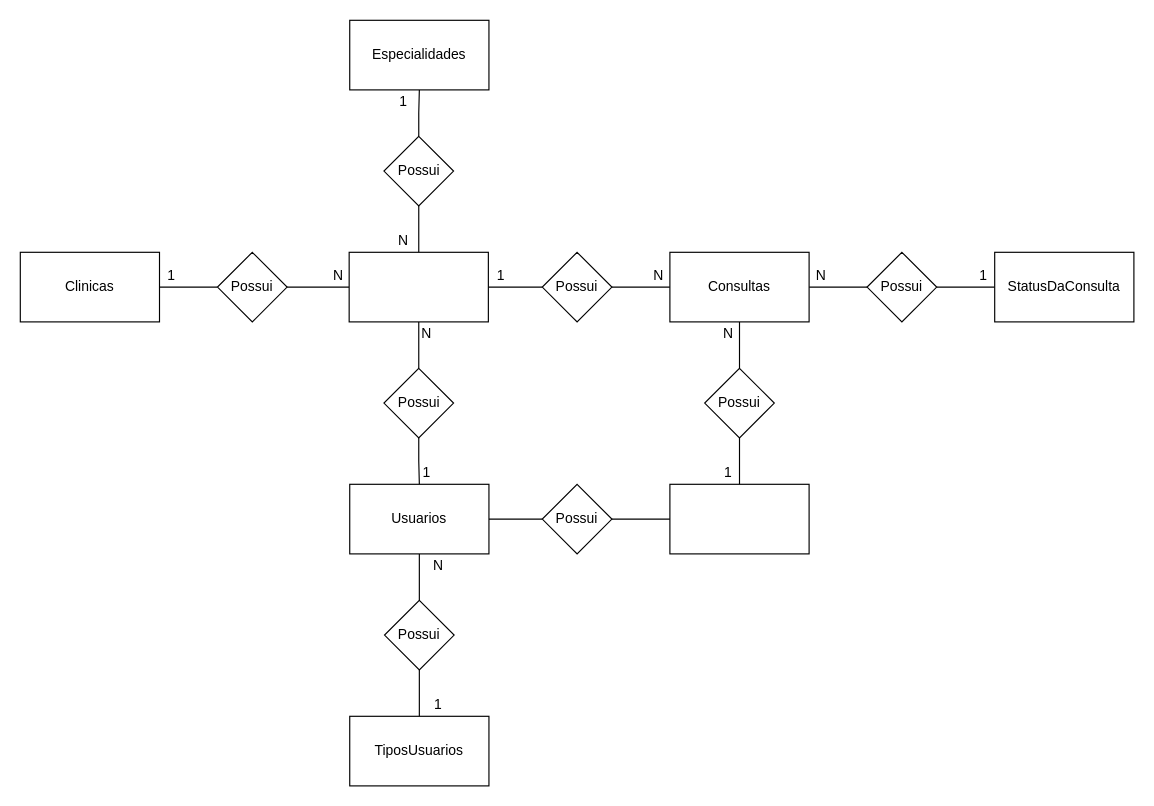
The diagram is 1154 pixels wide and 806 high, and some of its shapes have lost their labels. Each missing label, with the centre of its shape:
Medicos: (x=418, y=286)
Pacientes: (x=739, y=518)
